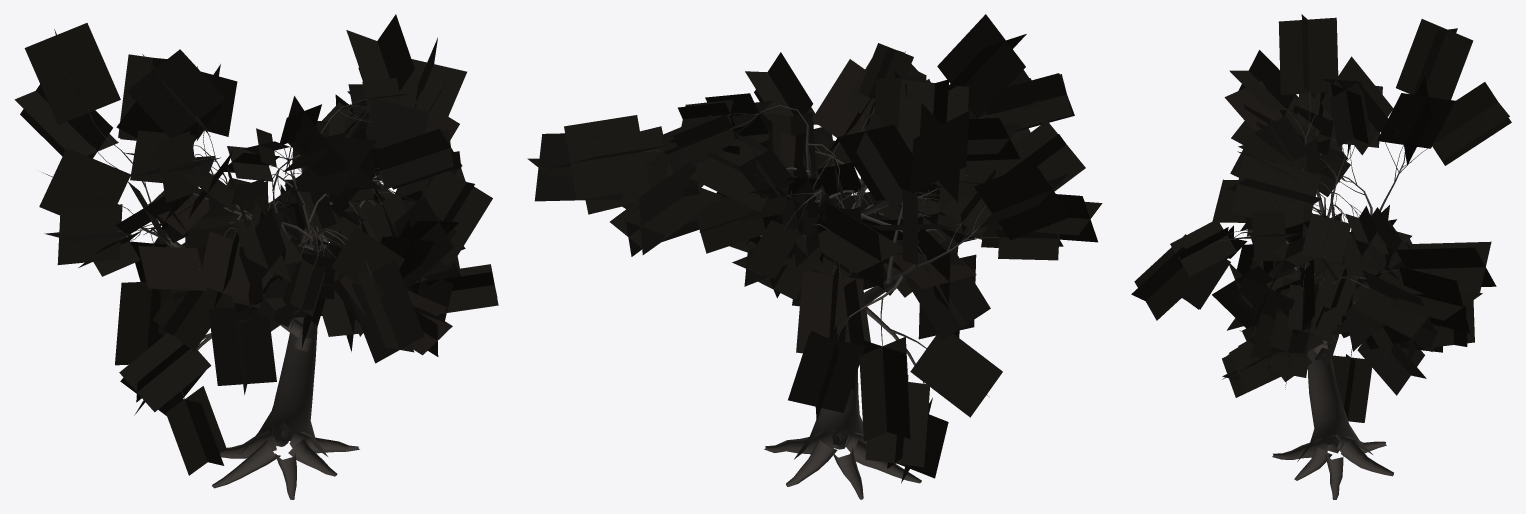
File: Roble_Seco.glb
The picture shows the model from 3 angles, left to right: view 1: azimuth 30°, elevation 25°; view 2: azimuth 150°, elevation 25°; view 3: azimuth 270°, elevation 25°; orthographic projection. The views are drawn at different scales.
Visible parts, largest first — view 1: Roble_Seco; view 2: Roble_Seco; view 3: Roble_Seco.
Boxes of the visible parts, <box> form: Roble_Seco: <box>14,14,498,499</box>; Roble_Seco: <box>527,14,1102,499</box>; Roble_Seco: <box>1131,14,1511,499</box>.
Bounding box in the file's own units: 15.18 × 13.79 × 11.85.
2 materials, 1 textured.
